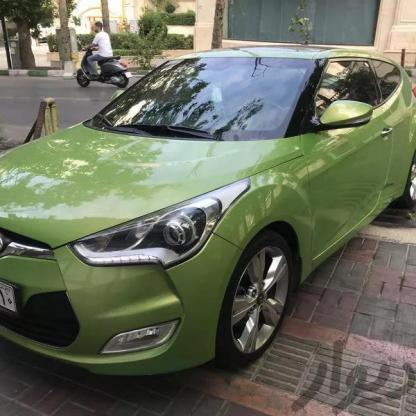Car: (0, 43, 416, 376)
